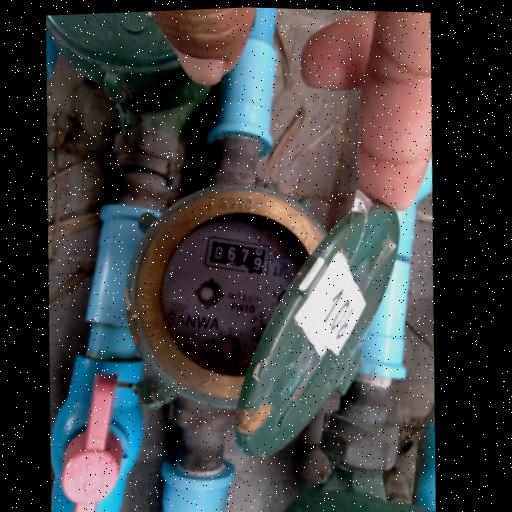0: (208, 240, 229, 265)
6: (221, 242, 243, 266)
7: (235, 244, 254, 268)
9: (246, 246, 268, 276)
border_water_meter_number: (200, 231, 276, 280)
